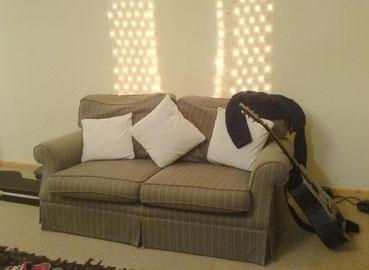sofa: (36, 91, 304, 263)
